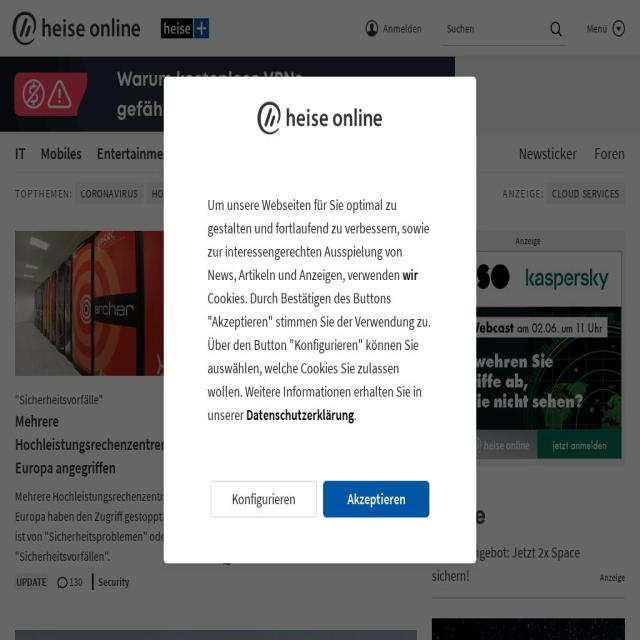button: (15, 231, 209, 590), (223, 231, 417, 567), (431, 506, 625, 587), (431, 617, 625, 640), (15, 629, 417, 640), (12, 11, 140, 45), (323, 481, 429, 517), (211, 481, 317, 517), (97, 142, 174, 172), (242, 142, 300, 172), (546, 183, 626, 204), (315, 142, 369, 172), (212, 183, 286, 204), (74, 183, 144, 204), (146, 183, 210, 204), (332, 183, 396, 204), (40, 142, 81, 172), (384, 142, 425, 172), (189, 142, 227, 172), (160, 17, 210, 38), (288, 183, 330, 204), (398, 183, 440, 204), (587, 19, 625, 37), (15, 142, 26, 172)
field: (442, 10, 567, 46)
heading: (15, 409, 180, 478), (431, 540, 600, 588), (223, 409, 403, 454), (15, 388, 209, 409), (223, 388, 417, 409), (431, 506, 485, 528)
iframe: (434, 251, 622, 459), (0, 56, 455, 132)
image: (0, 0, 640, 640), (15, 231, 209, 377), (223, 231, 417, 377), (431, 617, 625, 640), (15, 629, 417, 640), (12, 11, 140, 45), (160, 17, 210, 38), (366, 19, 378, 37), (613, 19, 625, 37), (553, 22, 558, 36)
link: (15, 485, 209, 566), (223, 462, 417, 542), (246, 405, 354, 424), (383, 19, 422, 37), (403, 265, 418, 284)
text: (208, 288, 430, 424), (208, 195, 430, 284), (431, 231, 625, 251), (519, 142, 579, 164), (346, 489, 406, 508), (15, 185, 73, 202), (502, 185, 544, 202), (594, 142, 625, 164), (92, 572, 129, 590), (15, 572, 48, 590), (599, 566, 625, 588), (587, 19, 607, 37), (233, 550, 253, 566), (68, 573, 82, 589), (354, 405, 356, 424)
